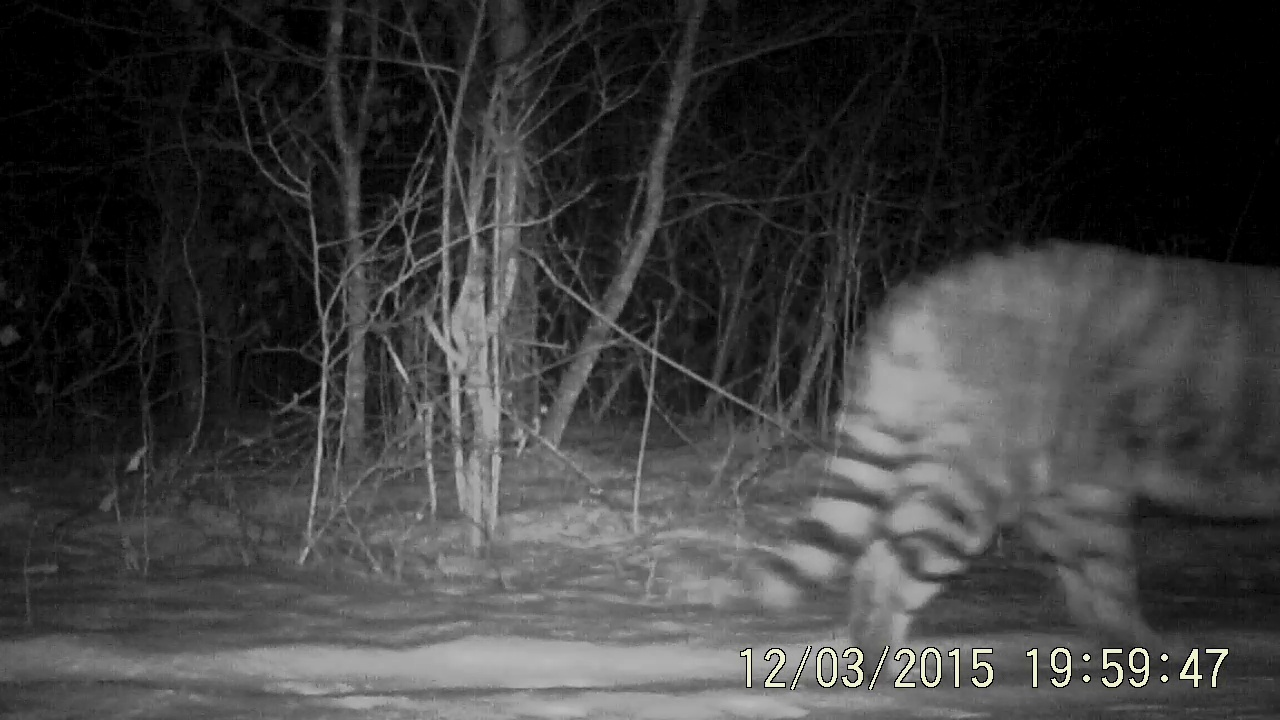Tiger: (723, 141, 1279, 635)
